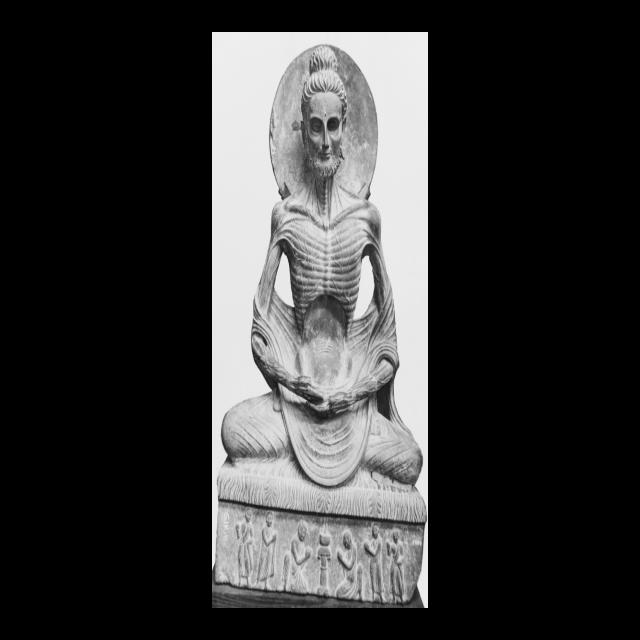buddha-sitting: (221, 44, 422, 487)
